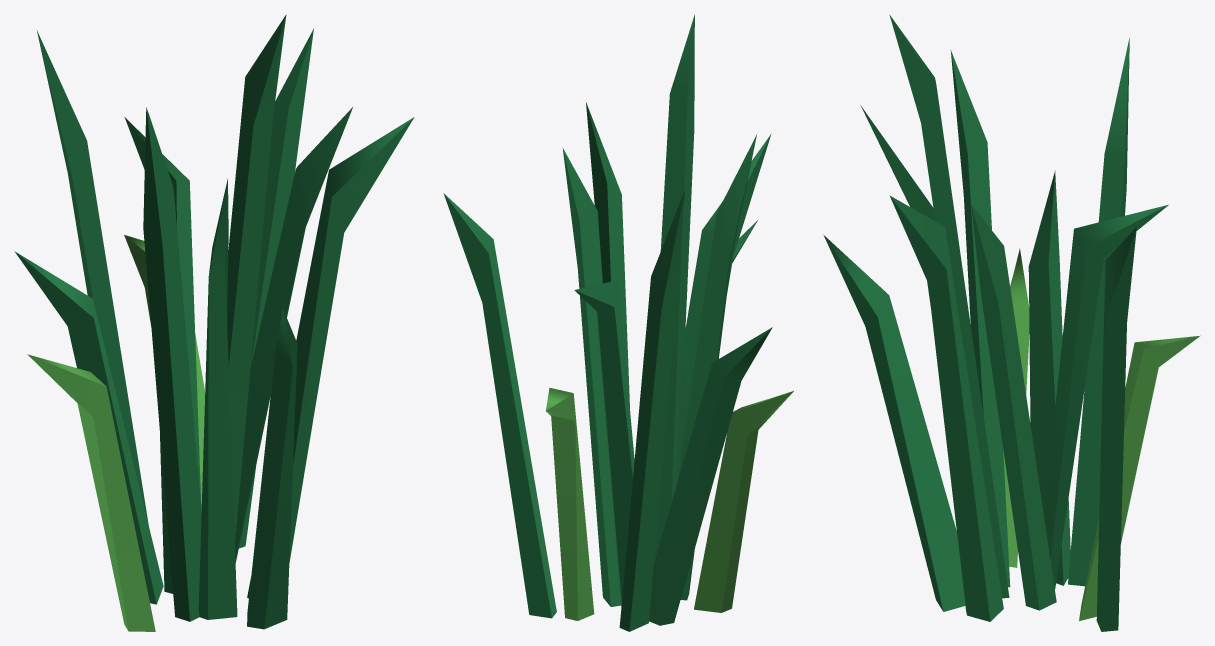
The model's file is SM_Env_RicePlant_01-optimized.glb.
The picture shows the model from 3 angles, left to right: view 1: azimuth 30°, elevation 25°; view 2: azimuth 150°, elevation 25°; view 3: azimuth 270°, elevation 25°; orthographic projection. The views are drawn at different scales.
Parts seen in each view (by area): view 1: SM_Env_RicePlant_01; view 2: SM_Env_RicePlant_01; view 3: SM_Env_RicePlant_01.
Boxes of the visible parts, left/top/right/bottom form: SM_Env_RicePlant_01: left=14, top=14, right=414, bottom=631; SM_Env_RicePlant_01: left=443, top=14, right=793, bottom=631; SM_Env_RicePlant_01: left=823, top=14, right=1200, bottom=631.
Size of the model in its own units: 0.8434 by 1.46 by 0.8542.
Materials: 1 (1 with a texture image).
